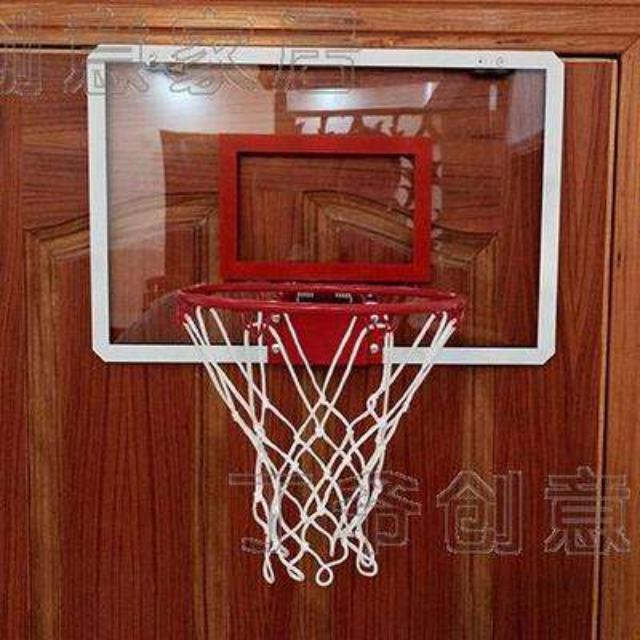rim: (178, 282, 464, 586)
